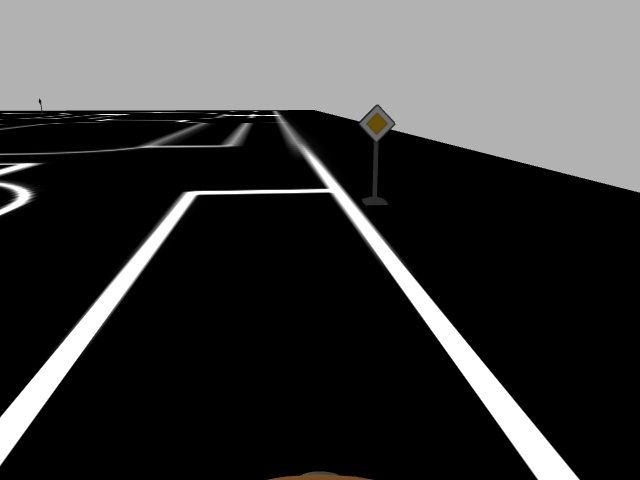priority: (357, 103, 396, 142)
